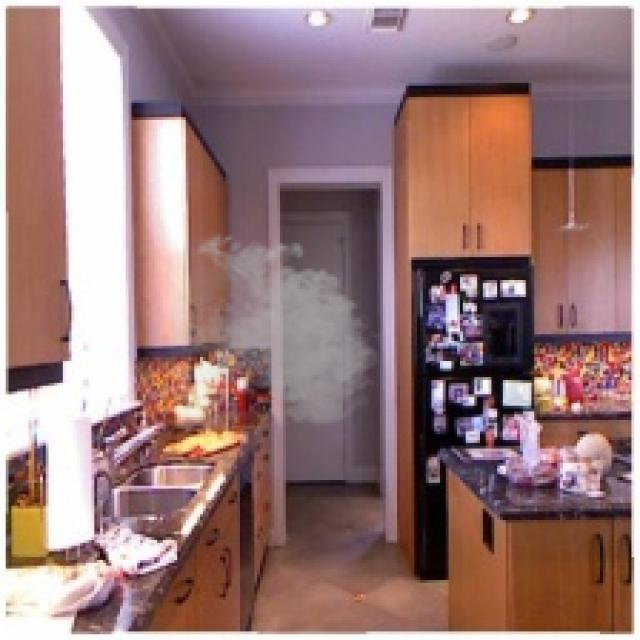smoke: (171, 228, 386, 432)
